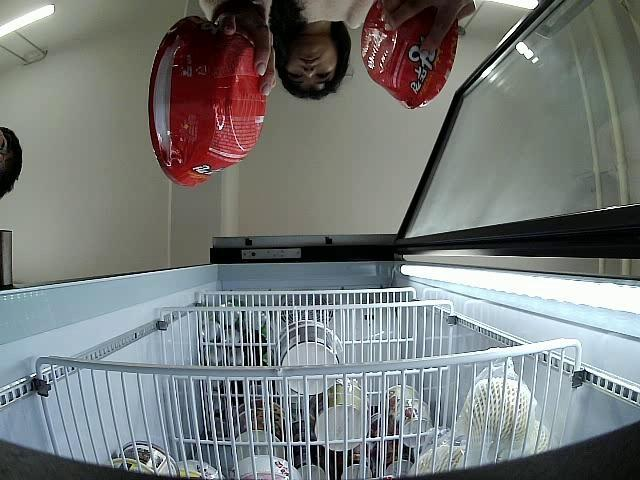10_wangTtukkeong: (146, 15, 268, 188), (361, 0, 458, 110)
